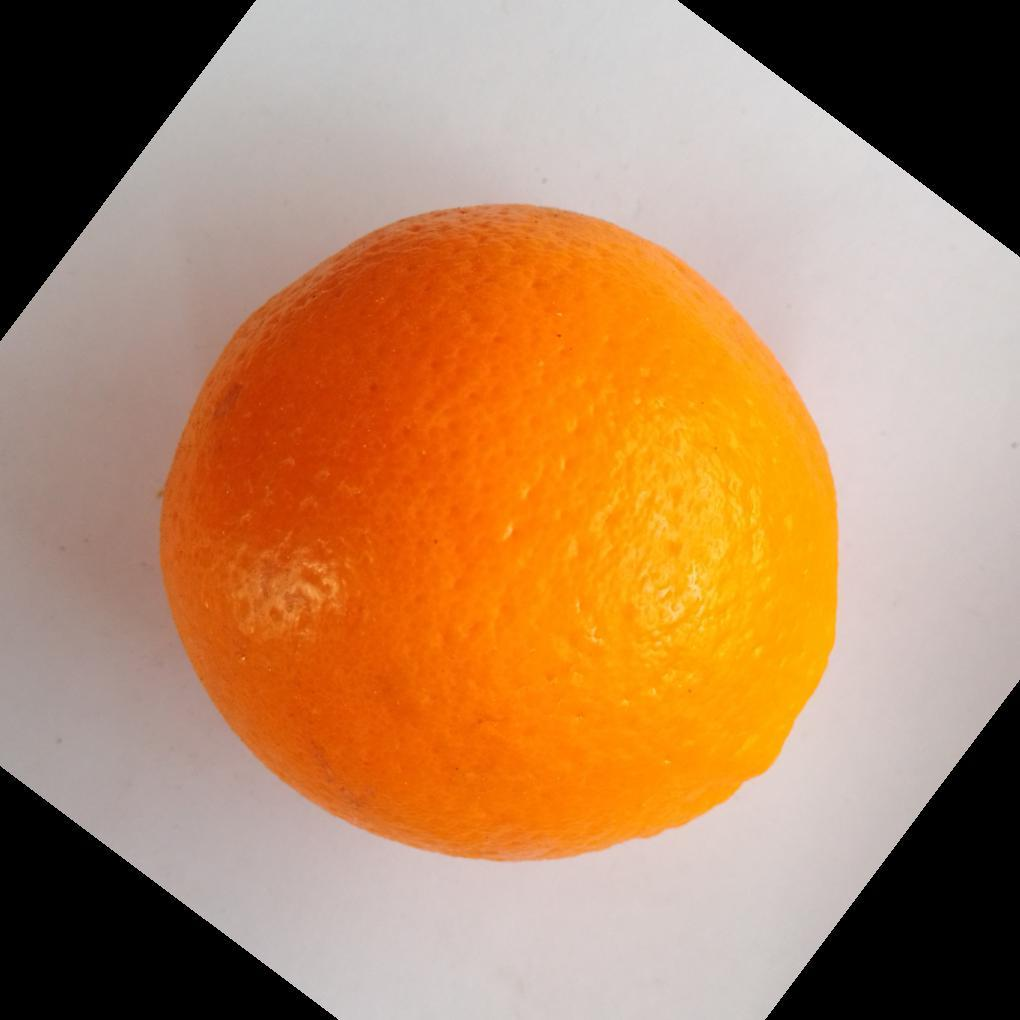FreshGuava: (155, 205, 840, 867)
